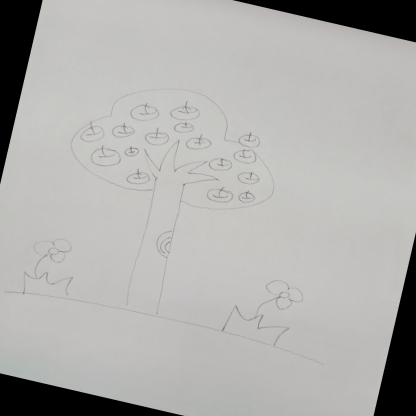apple: (88, 143, 123, 170), (129, 98, 162, 124), (168, 98, 202, 122), (78, 120, 108, 146), (204, 184, 236, 206), (185, 132, 213, 154), (110, 120, 136, 142), (232, 145, 259, 166), (126, 167, 151, 188), (237, 130, 262, 150), (236, 170, 261, 187), (208, 156, 232, 173), (171, 119, 195, 136), (238, 189, 256, 205), (124, 145, 140, 159)
branch_sharp: (136, 134, 225, 200)
crown_cloud: (63, 66, 292, 224)
knot: (152, 226, 176, 260)
root_none: (88, 290, 192, 352)
trunk_straight: (125, 203, 183, 303)
